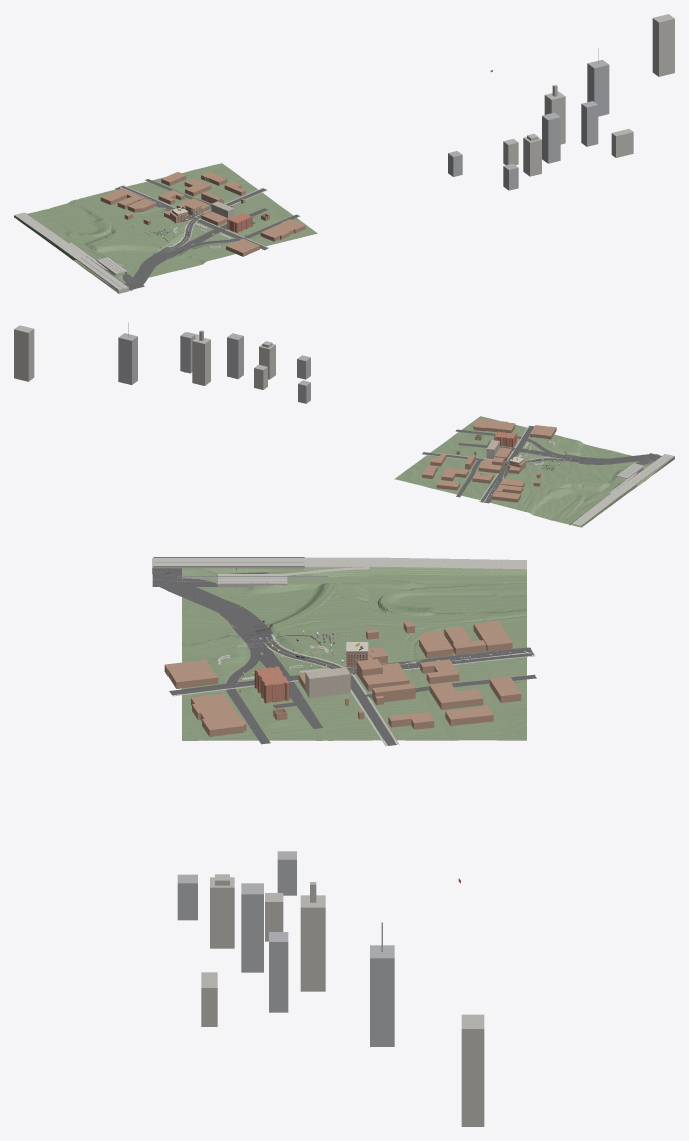
3 renders of one model, top to bottom at view 1: azimuth 30°, elevation 25°; view 2: azimuth 150°, elevation 25°; view 3: azimuth 270°, elevation 25°, orthographic. The views are drawn at different scales.
Visible parts, largest first — view 1: M1_Terrain_DEM, Skyline_SouthlandLife, Skyline_Republic, Skyline_Magnolia, Skyline_MercantileCommerce, Skyline_Adolphus, Stemmons_Roadway_N, Road_Commerce_St, Skyline_Mercantile, Skyline_Statler, George_L._Allen_Sr._Courthouse, Road_Main_St (+2 smaller); view 2: M1_Terrain_DEM, Skyline_SouthlandLife, Skyline_Republic, Skyline_Mercantile, Skyline_Magnolia, Stemmons_Roadway_N, Road_Commerce_St, Road_Houston_St, Road_Main_St, Skyline_MercantileCommerce, George_L._Allen_Sr._Courthouse, Skyline_Adolphus (+3 smaller); view 3: M1_Terrain_DEM, Skyline_SouthlandLife, Skyline_Republic, Skyline_Mercantile, Stemmons_Roadway_N, Skyline_Magnolia, Road_Commerce_St, Skyline_Adolphus, George_L._Allen_Sr._Courthouse, Skyline_MercantileCommerce, Road_Main_St, Road_Houston_St (+11 smaller).
Part boxes in pixels (box(x1,y1,x2,y2)): M1_Terrain_DEM: box(28, 163, 317, 284); Skyline_SouthlandLife: box(652, 14, 674, 76); Skyline_Republic: box(587, 59, 609, 116); Skyline_Magnolia: box(542, 112, 560, 163); Skyline_MercantileCommerce: box(581, 101, 598, 146); Skyline_Adolphus: box(523, 137, 541, 176); Stemmons_Roadway_N: box(14, 212, 85, 258); Road_Commerce_St: box(129, 214, 299, 288); Skyline_Mercantile: box(544, 91, 565, 144); Skyline_Statler: box(611, 129, 633, 157); George_L._Allen_Sr._Courthouse: box(260, 219, 305, 241); Road_Main_St: box(145, 208, 267, 268); M1_Terrain_DEM: box(394, 416, 667, 527); Skyline_SouthlandLife: box(14, 325, 34, 381); Skyline_Republic: box(118, 333, 137, 384); Skyline_Mercantile: box(192, 336, 210, 385); Skyline_Magnolia: box(227, 333, 243, 378); Stemmons_Roadway_N: box(572, 481, 636, 525); Road_Commerce_St: box(455, 429, 659, 464); Road_Houston_St: box(480, 426, 534, 503); Road_Main_St: box(458, 443, 617, 462); Skyline_MercantileCommerce: box(180, 332, 195, 373); George_L._Allen_Sr._Courthouse: box(473, 418, 515, 432); Skyline_Adolphus: box(259, 344, 275, 379); M1_Terrain_DEM: box(182, 568, 526, 740); Skyline_SouthlandLife: box(461, 1014, 484, 1126); Skyline_Republic: box(370, 945, 394, 1046); Skyline_Mercantile: box(300, 895, 325, 991); Stemmons_Roadway_N: box(304, 557, 526, 569); Skyline_Magnolia: box(241, 883, 263, 972); Road_Commerce_St: box(155, 577, 270, 744); Skyline_Adolphus: box(210, 877, 234, 948); George_L._Allen_Sr._Courthouse: box(191, 693, 246, 736); Skyline_MercantileCommerce: box(269, 932, 288, 1012); Road_Main_St: box(216, 603, 322, 728); Road_Houston_St: box(169, 647, 534, 695).
Size of the model in its own units: 6177 by 618 by 1782.
Materials: 137 (19 with a texture image).
